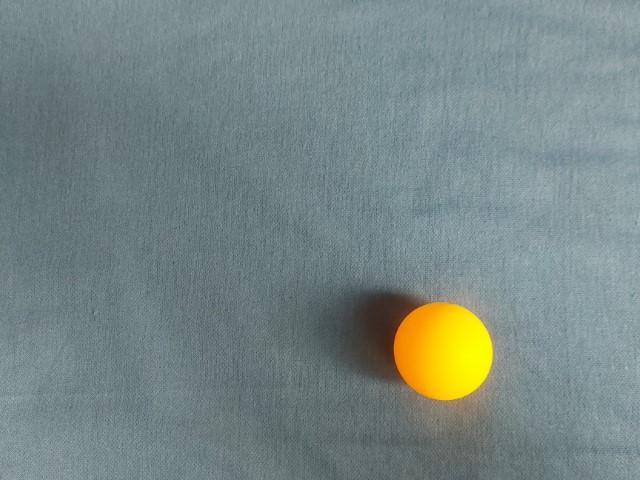oball: (138, 72, 254, 187)
